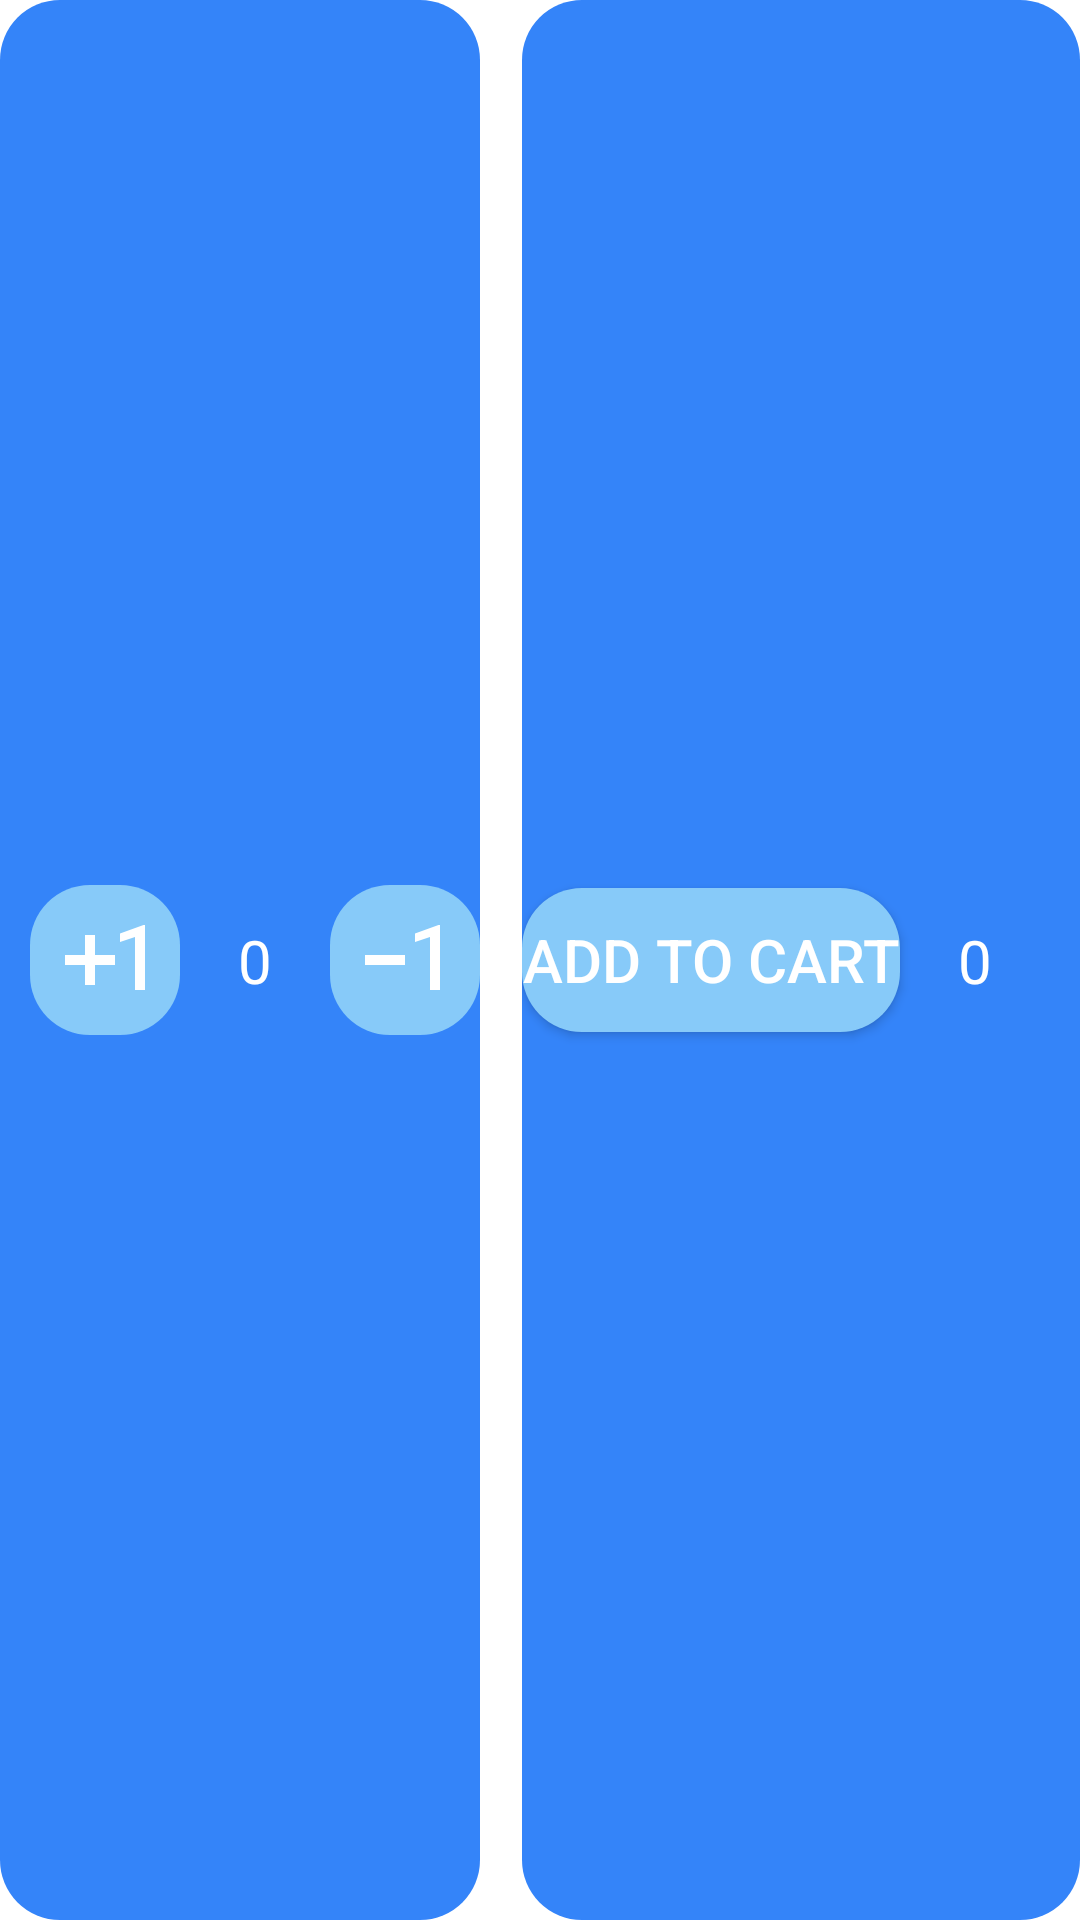

Icon bounding boxes for this 1080*1920 phone screenshot, format rect(x1, y1, x2, y2):
exposure neg: rect(330, 885, 480, 1035)
exposure plus: rect(30, 885, 180, 1035)
